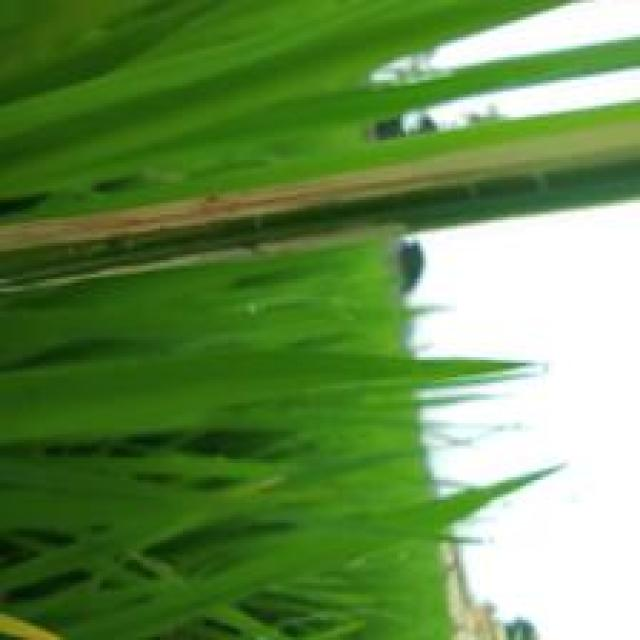Rice_Hispa: (0, 118, 640, 256)
